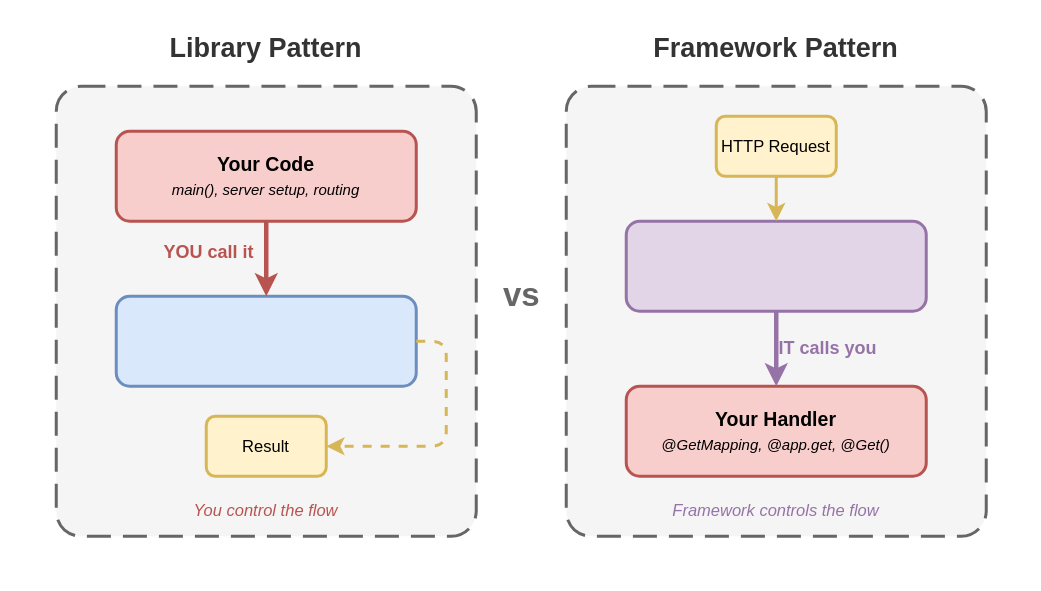
Image size: 1041x591. Some labels were removed from this diagram. The shapes that lost their labels are listed below. From the top down, each one's centre as x and y in pixels, then its label:
At point 775,265: "Framework FastAPI, NestJS, Spring, Gin".
At point 265,340: "Library requests, axios, net/http".
